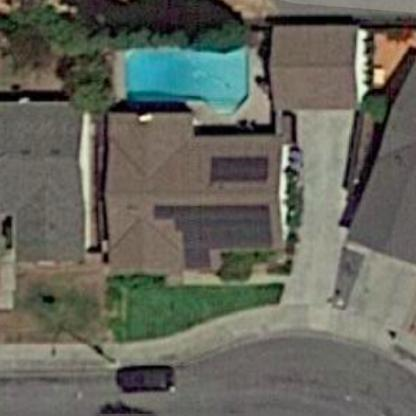car: (113, 360, 180, 397)
solar_panel: (148, 199, 278, 272), (205, 150, 278, 189)
swimming_pool: (103, 33, 262, 128)
